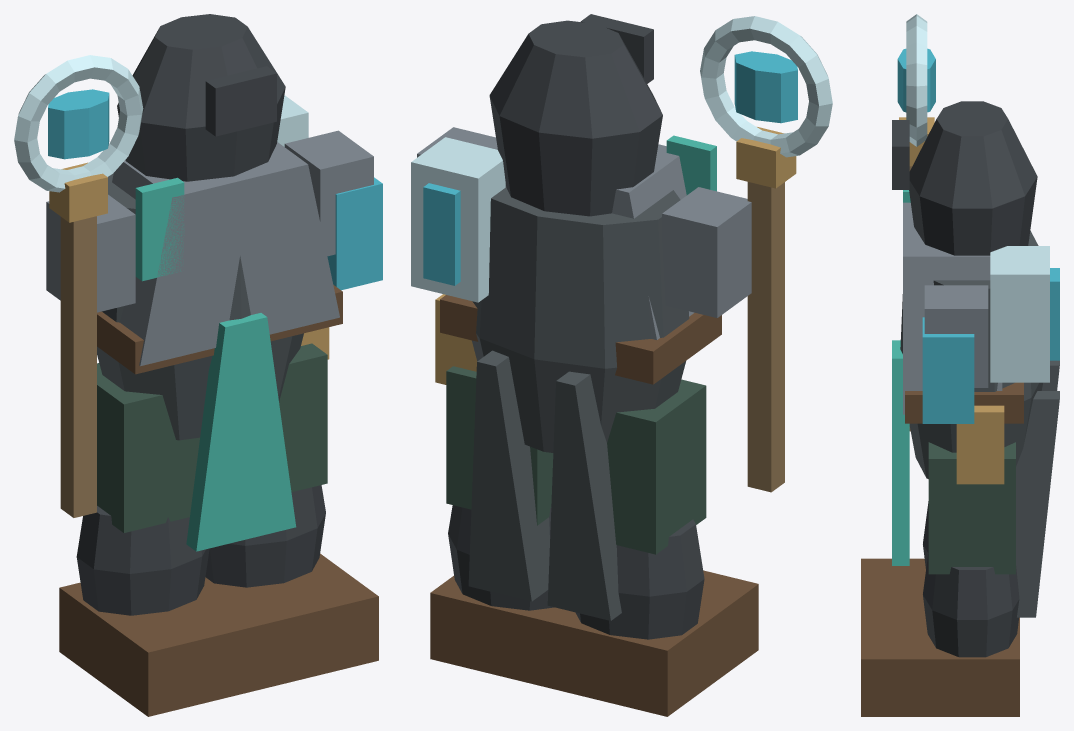
Rendered from unit-elementalist-water.glb.
3 views of the same model, side by side, from view 1: azimuth 30°, elevation 25°; view 2: azimuth 150°, elevation 25°; view 3: azimuth 270°, elevation 25° (orthographic). The views are drawn at different scales.
Parts seen in each view (by area): view 1: Body, LegL, LegR, Weapon; view 2: Body, LegL, Weapon, LegR; view 3: Body, LegR, Weapon, LegL.
Boxes of the visible parts, x1,y1,x2,y2 form: Body: (46,14,382,551); LegL: (59,363,263,716); LegR: (205,343,378,688); Weapon: (14,55,143,517); Body: (411,14,751,620); LegL: (549,379,758,716); Weapon: (700,16,832,492); LegR: (430,366,564,687); Body: (892,101,1059,617); LegR: (861,442,1019,716); Weapon: (897,14,935,431); LegL: (861,501,928,608).
Size of the model in its own units: 0.968 by 1.61 by 0.5.
